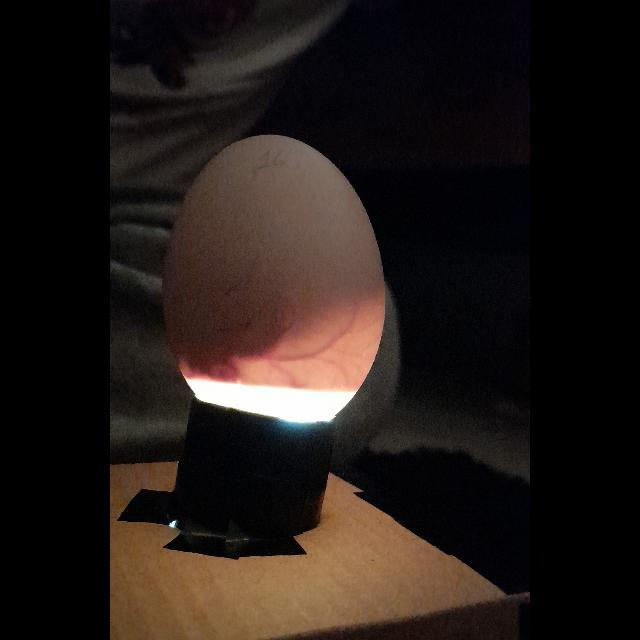Fertile: (162, 134, 394, 424)
